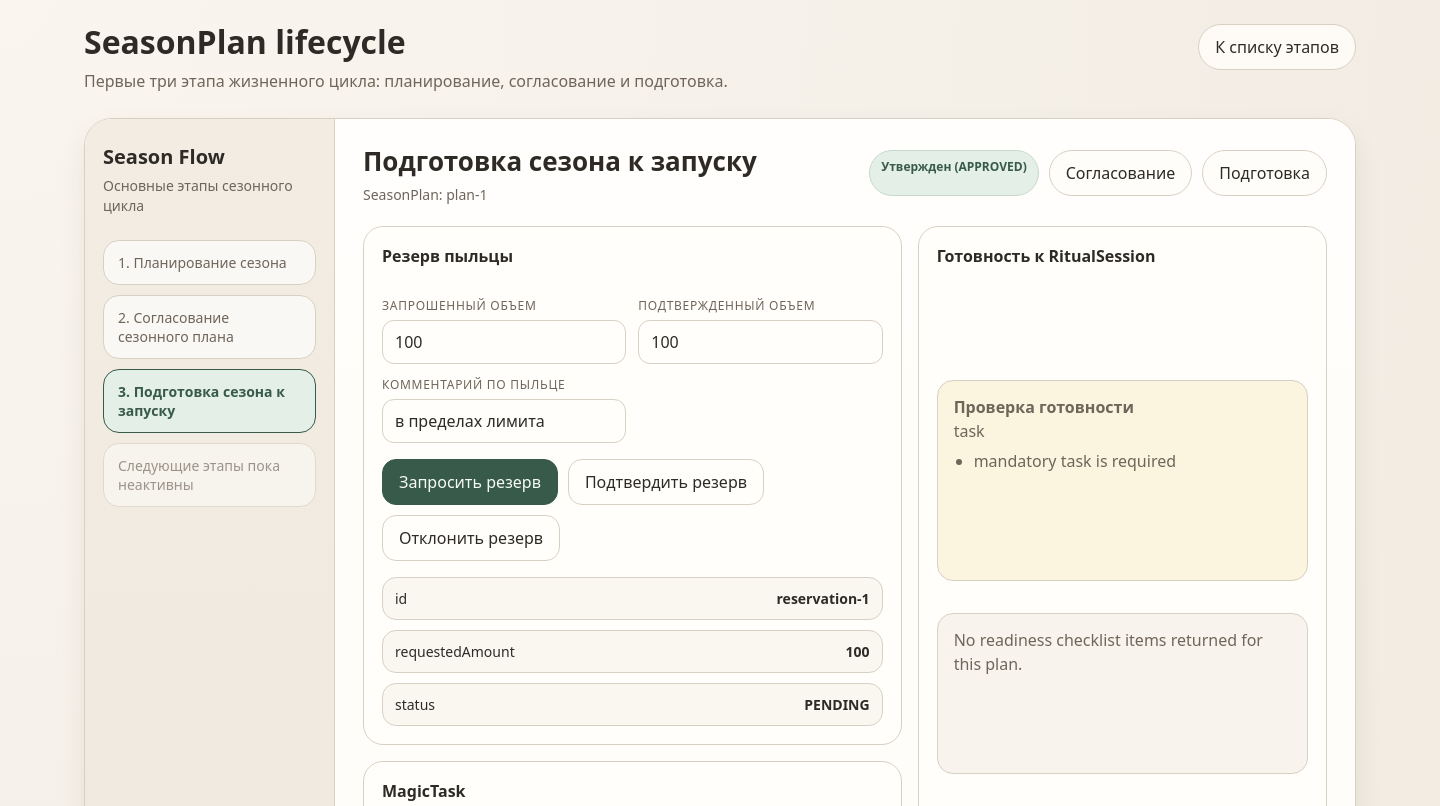
Test: PreparationPage › displays pollen limit errors when confirmation is rejected
The image size is (1440, 806).
Click the button "Подтвердить резерв": [666, 482] box [568, 459, 764, 505]
(page scrolled)
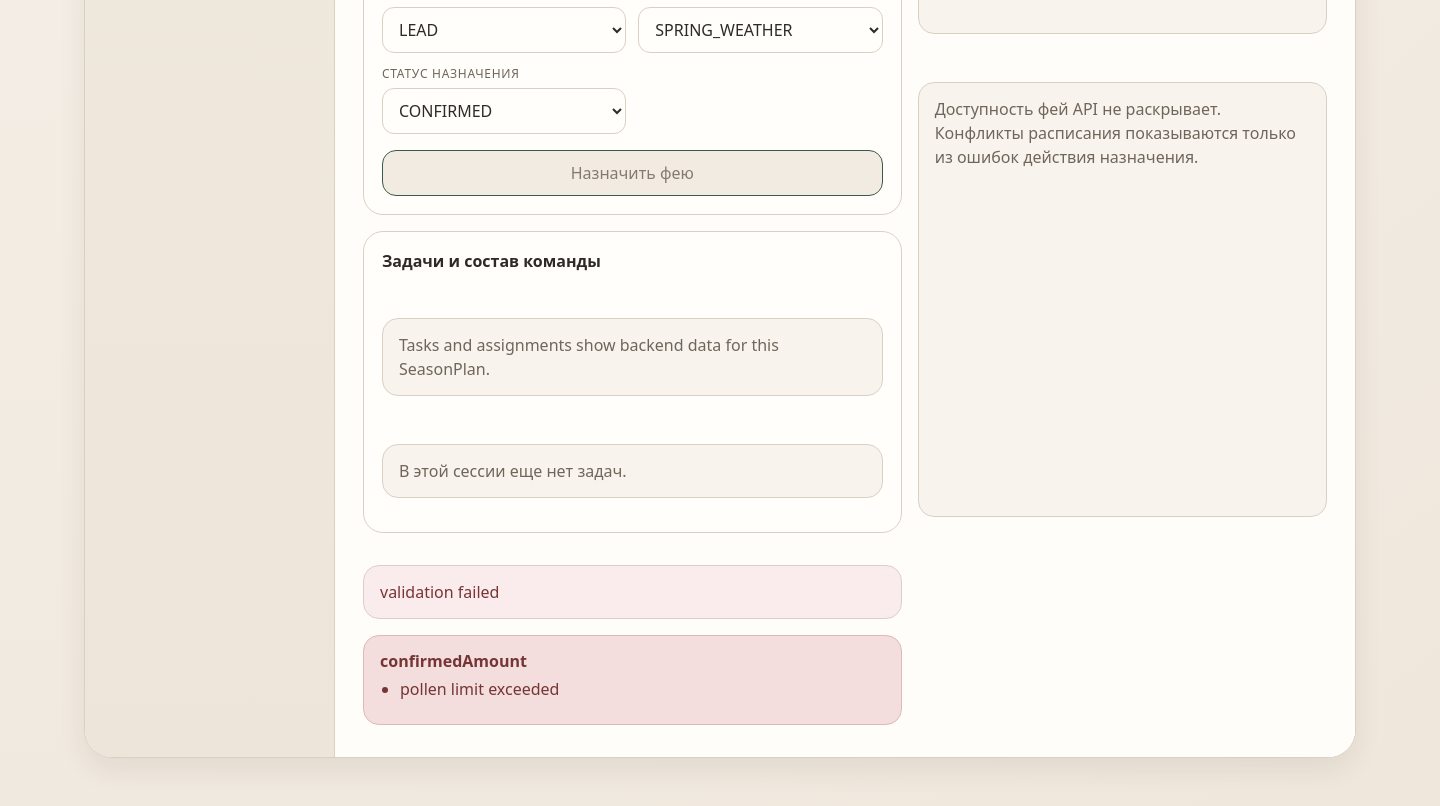
Result: the list item "pollen limit exceeded" is shown at [400, 678, 559, 700]
